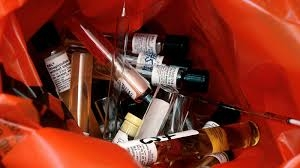glass: (61, 8, 155, 104), (117, 118, 268, 167), (40, 41, 101, 141), (128, 82, 180, 151), (135, 62, 216, 95), (121, 27, 197, 58)
